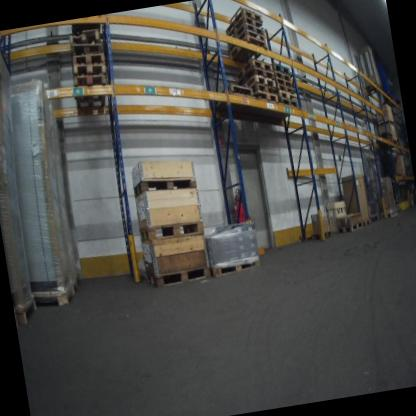pallet: (68, 66, 109, 116), (211, 80, 256, 116), (206, 254, 261, 280), (229, 31, 269, 66), (32, 282, 74, 312), (224, 15, 265, 43), (223, 6, 263, 31), (232, 56, 275, 79), (226, 18, 265, 43), (225, 30, 266, 53), (12, 297, 38, 330), (249, 91, 281, 114), (67, 51, 108, 67), (67, 28, 100, 46), (236, 67, 274, 82), (70, 41, 105, 57), (253, 79, 278, 99), (73, 62, 108, 76), (338, 220, 364, 236), (251, 73, 276, 89), (272, 59, 291, 77), (278, 89, 298, 105), (271, 69, 291, 84), (279, 98, 299, 113), (272, 75, 293, 89), (275, 80, 294, 95), (365, 81, 381, 98), (383, 136, 395, 148), (359, 219, 370, 231), (379, 131, 393, 139), (385, 209, 396, 219), (393, 208, 402, 216), (390, 198, 400, 205), (392, 203, 401, 209)
stillage: (358, 173, 383, 225)
